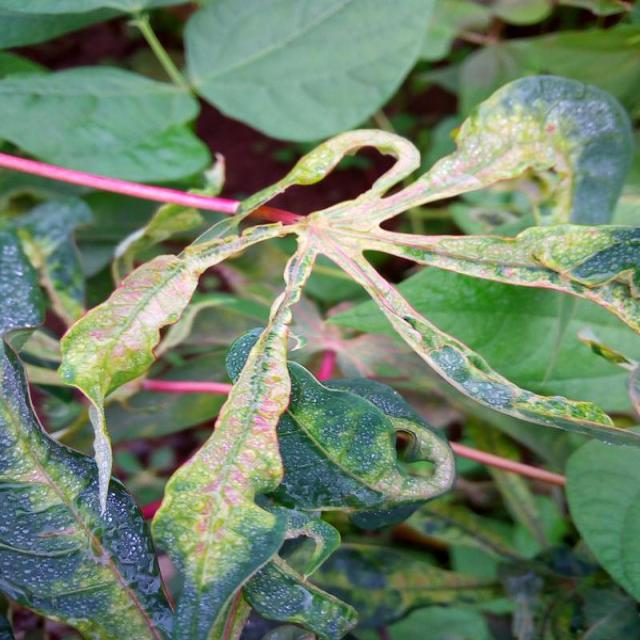cassava leaf: (1, 68, 638, 638), (182, 0, 434, 144)
